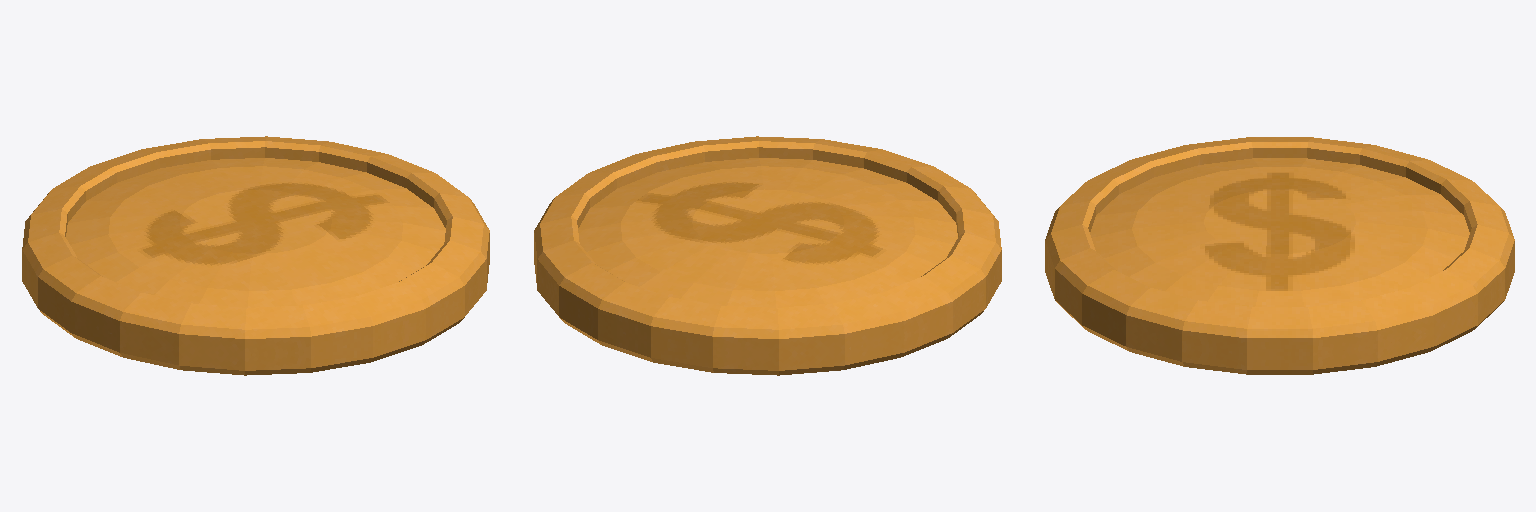
3 views of the same model, side by side, from view 1: azimuth 30°, elevation 25°; view 2: azimuth 150°, elevation 25°; view 3: azimuth 270°, elevation 25° (orthographic).
Parts seen in each view (by area): view 1: Cylinder.001_Cylinder.002; view 2: Cylinder.001_Cylinder.002; view 3: Cylinder.001_Cylinder.002.
Part boxes in pixels (left/top/right/bottom): Cylinder.001_Cylinder.002: left=22, top=136, right=489, bottom=375; Cylinder.001_Cylinder.002: left=534, top=136, right=1001, bottom=375; Cylinder.001_Cylinder.002: left=1045, top=137, right=1514, bottom=374.
Bounding box in the file's own units: 0.03 × 0.0049 × 0.0303.
Materials: 1 (1 with a texture image).